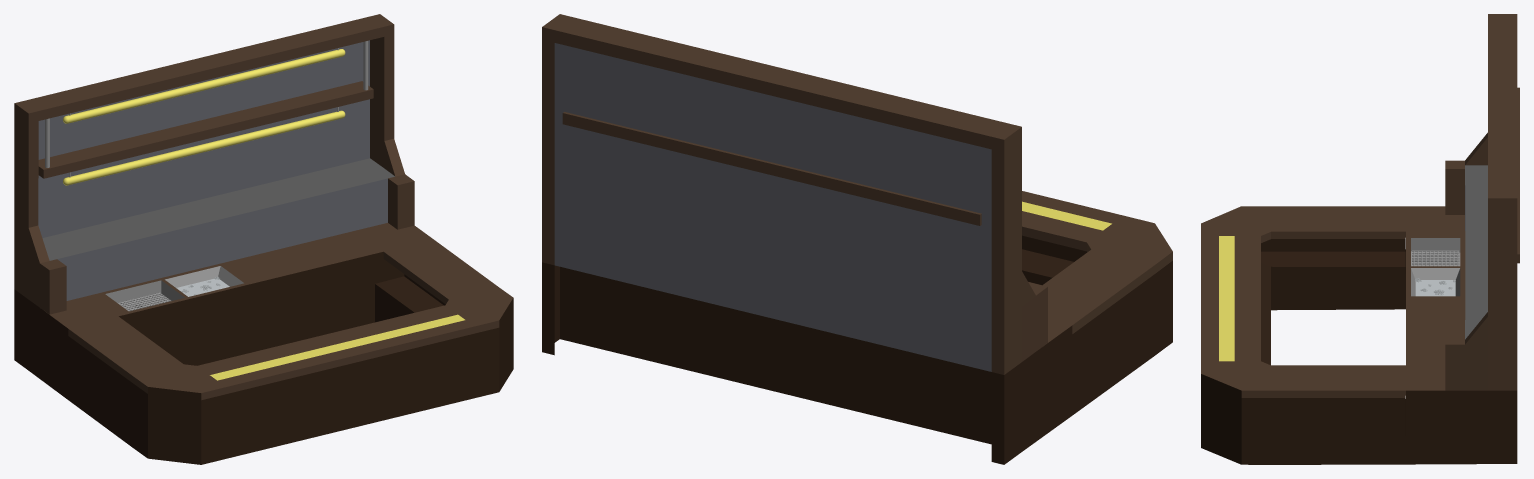
Rendered from BarWithSink.fbx.
3 renders of one model, left to right at view 1: azimuth 30°, elevation 25°; view 2: azimuth 150°, elevation 25°; view 3: azimuth 270°, elevation 25°, orthographic. The views are drawn at different scales.
Visible parts, largest first — view 1: Bar.Full; view 2: Bar.Full; view 3: Bar.Full, SinkGate.001, SinkGate.
Part boxes in pixels (x1,y1,x2,y2): Bar.Full: (14, 14, 513, 464); Bar.Full: (542, 14, 1172, 464); Bar.Full: (1201, 14, 1519, 464); SinkGate.001: (1412, 250, 1459, 266); SinkGate: (1413, 251, 1458, 266).
Bounding box in the file's own units: 589 × 397 × 431.
